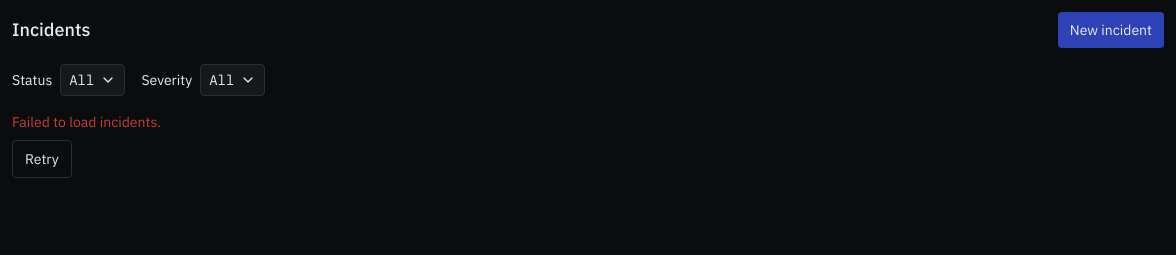
IncidentsListPage › shows an error state and a retry action when the request fails
This screenshot has width=1176, height=255.
Expected: the text "Failed to load incidents." is shown, [12,113,161,131]
Click the button "Retry" at {"x": 42, "y": 159}, box [12,140,72,178]
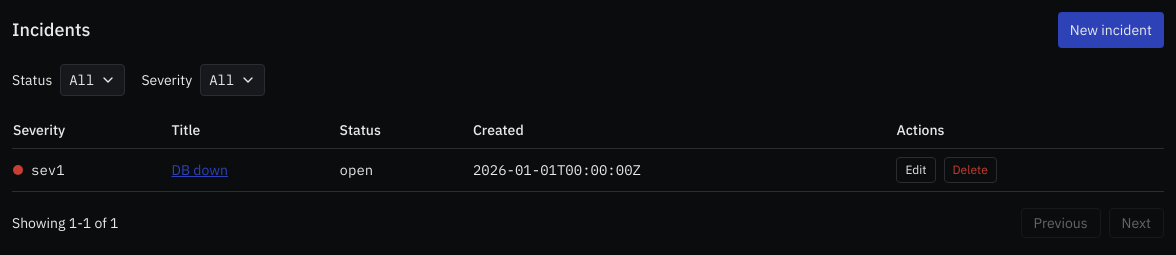
Result: the link "DB down" is shown at [172,161,228,179]
